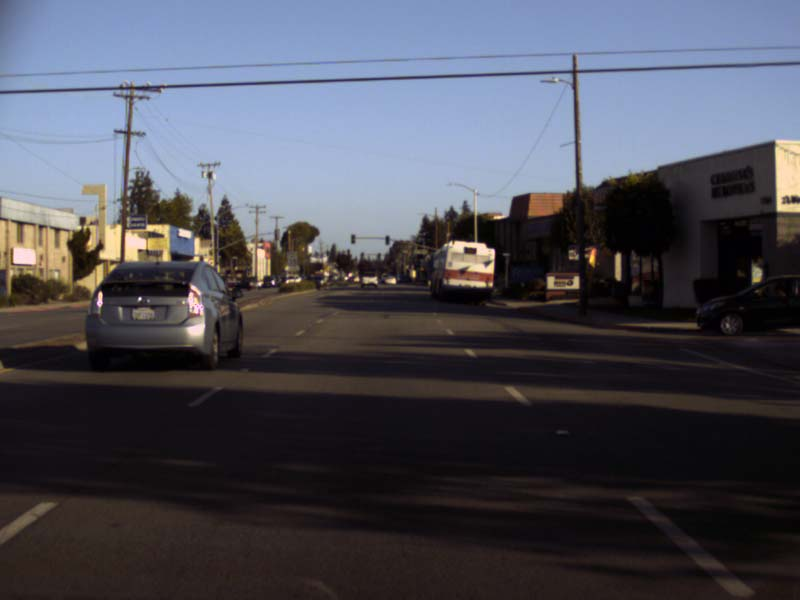Green: (349, 234, 355, 242)
